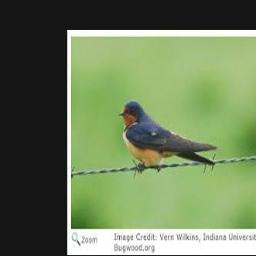Swallow: (118, 100, 217, 167)
